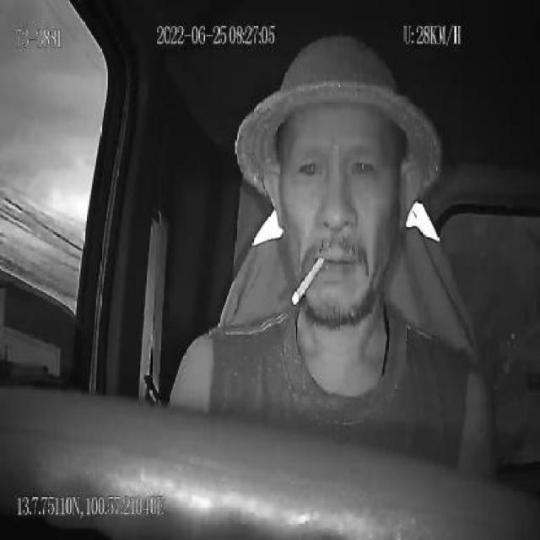smoking: (291, 254, 326, 310)
